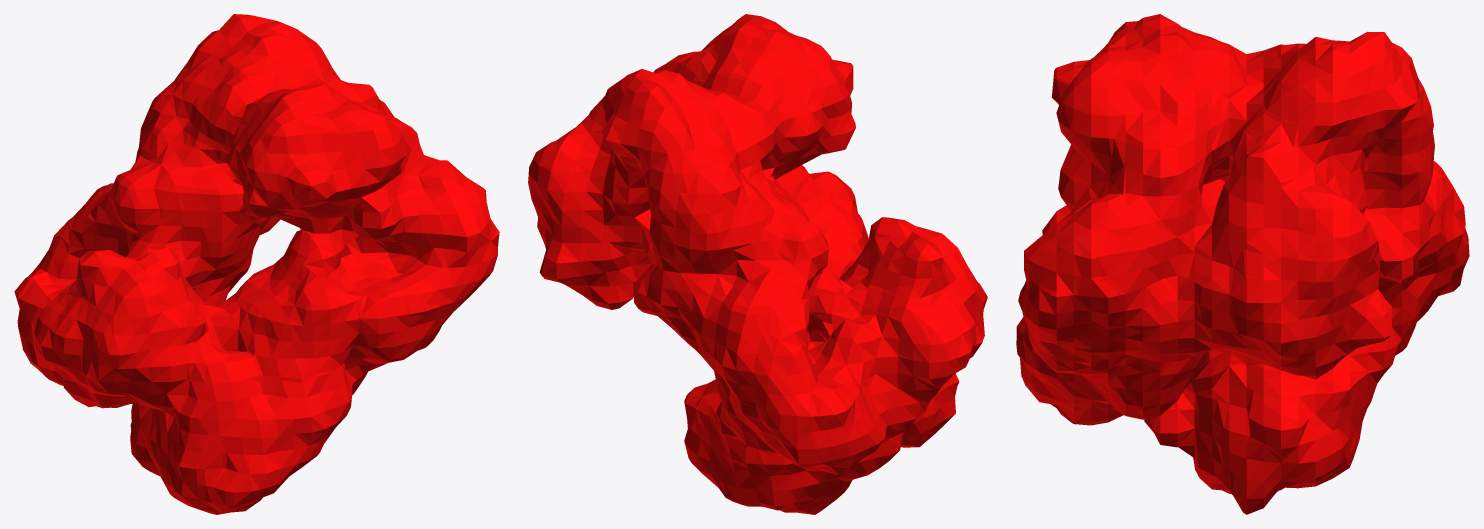
Rendered from guaA_coarse.dae.
3 renders of one model, left to right at view 1: azimuth 30°, elevation 25°; view 2: azimuth 150°, elevation 25°; view 3: azimuth 270°, elevation 25°, orthographic. The views are drawn at different scales.
Visible parts, largest first — view 1: guaA; view 2: guaA; view 3: guaA.
Boxes of the visible parts, left/top/right/bottom form: guaA: left=14, top=14, right=499, bottom=514; guaA: left=528, top=14, right=987, bottom=514; guaA: left=1016, top=14, right=1469, bottom=514.
Bounding box in the file's own units: 121 × 123 × 98.23.
